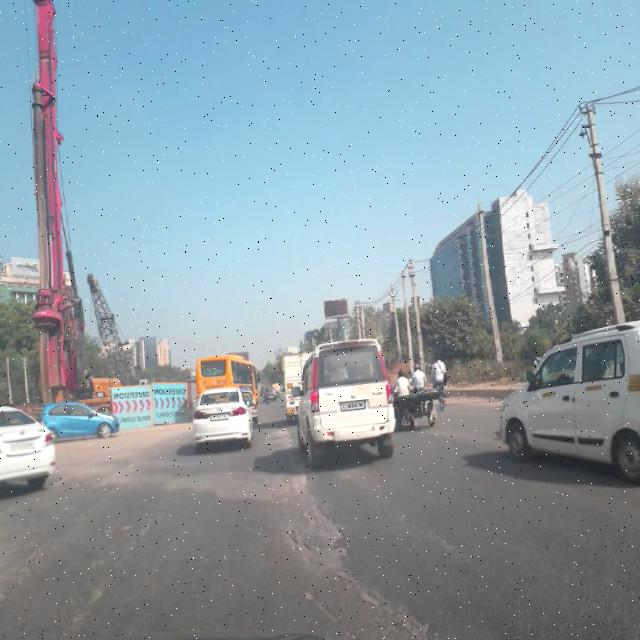D00: (56, 488, 170, 631)
